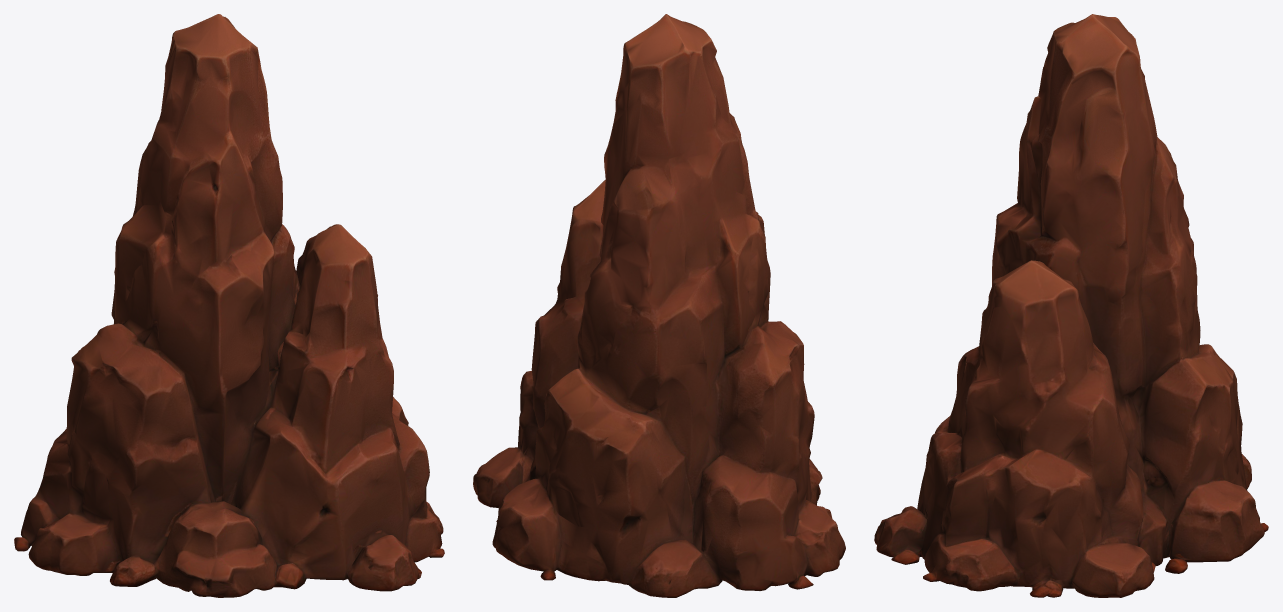
The model's file is formacion_rocosa_3.glb.
The picture shows the model from 3 angles, left to right: view 1: azimuth 30°, elevation 25°; view 2: azimuth 150°, elevation 25°; view 3: azimuth 270°, elevation 25°; orthographic projection. The views are drawn at different scales.
Visible parts, largest first — view 1: formacion_rocosa_3; view 2: formacion_rocosa_3; view 3: formacion_rocosa_3.
Part boxes in pixels (box(x1,y1,x2,y2)): formacion_rocosa_3: box(14, 14, 444, 597); formacion_rocosa_3: box(473, 14, 845, 597); formacion_rocosa_3: box(874, 14, 1268, 597).
Size of what is drawn, in the model's own units: 2.56 by 3.5 by 2.49.
1 material, 1 textured.
